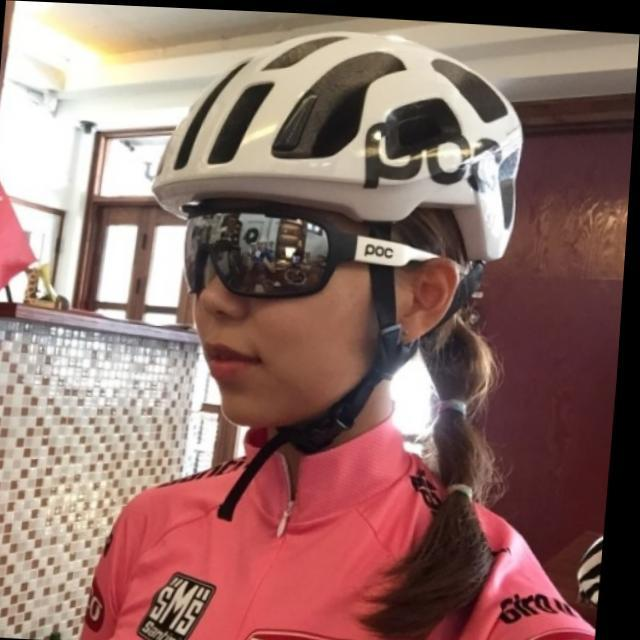Helmet: (145, 27, 529, 441)
